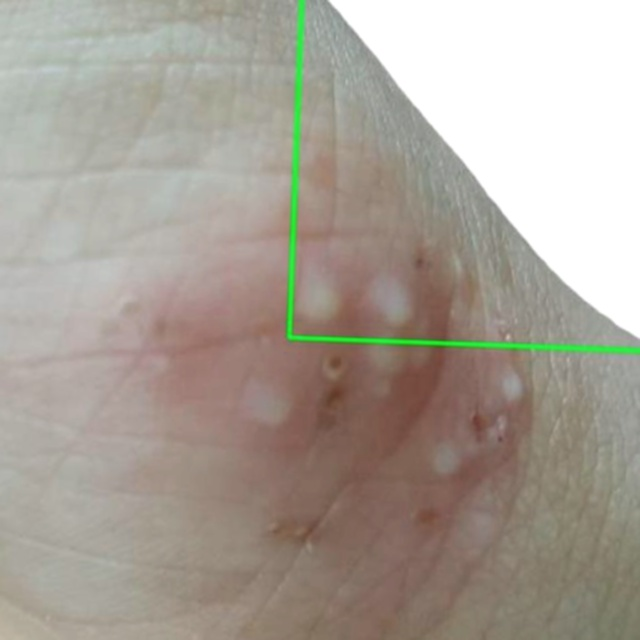Scabies: (289, 0, 639, 350)
